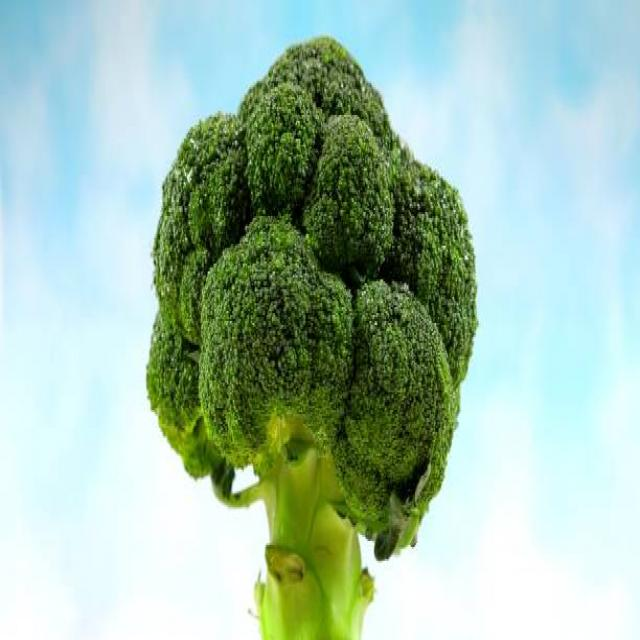Broccoli head: (100, 37, 564, 640)
